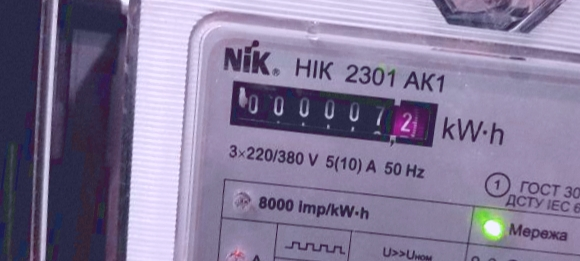0: (245, 90, 262, 115), (297, 94, 313, 119), (322, 96, 338, 121), (347, 98, 362, 123), (271, 93, 286, 116)
2: (399, 109, 414, 133)
7: (372, 102, 387, 127)
screen: (216, 66, 450, 159)
